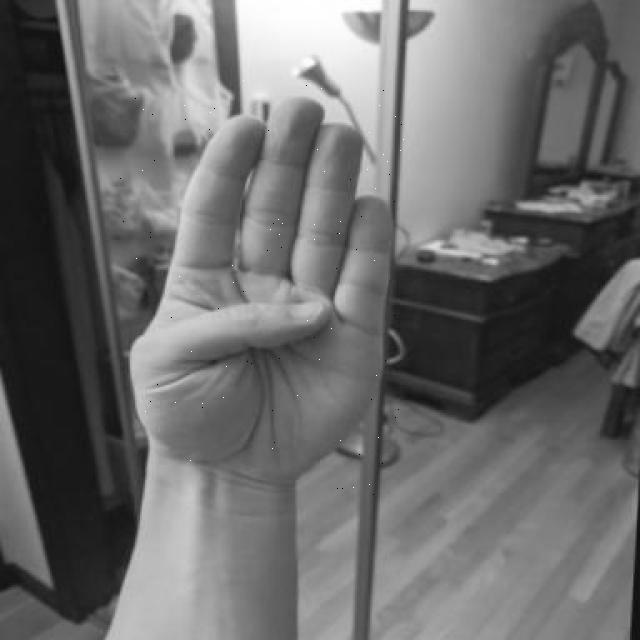B: (114, 80, 411, 495)
